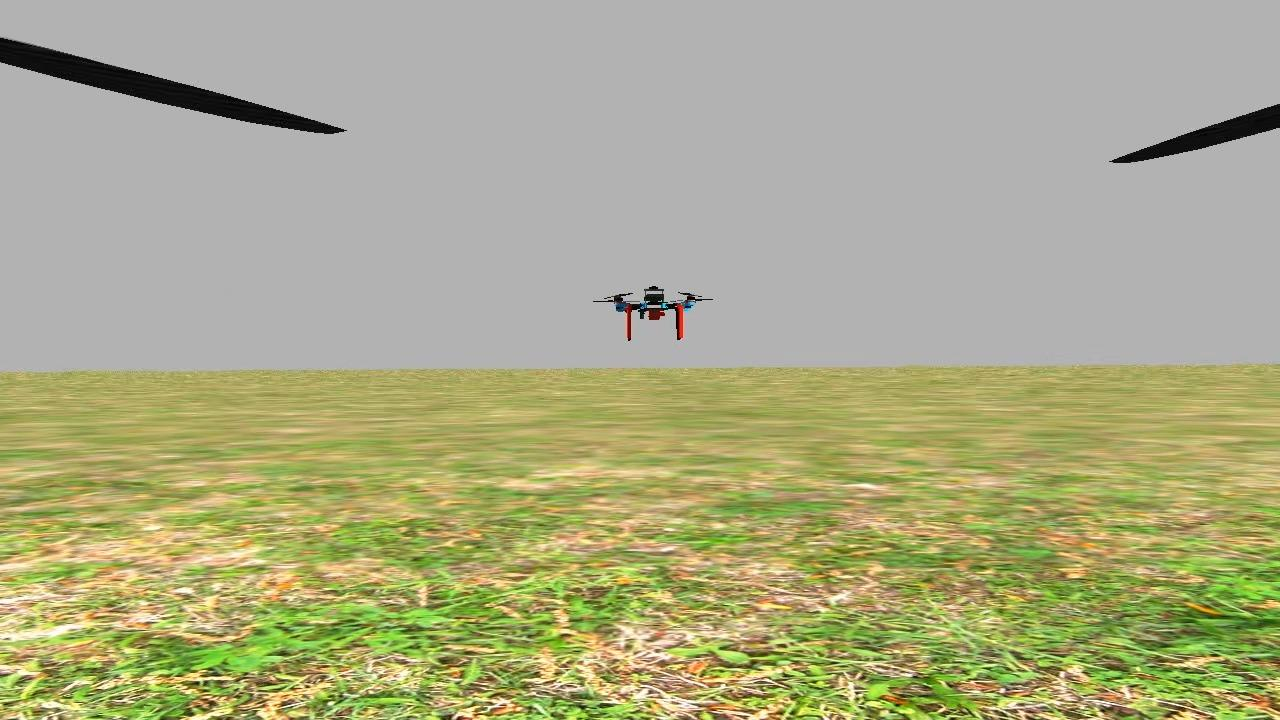UAV: (598, 280, 708, 346)
